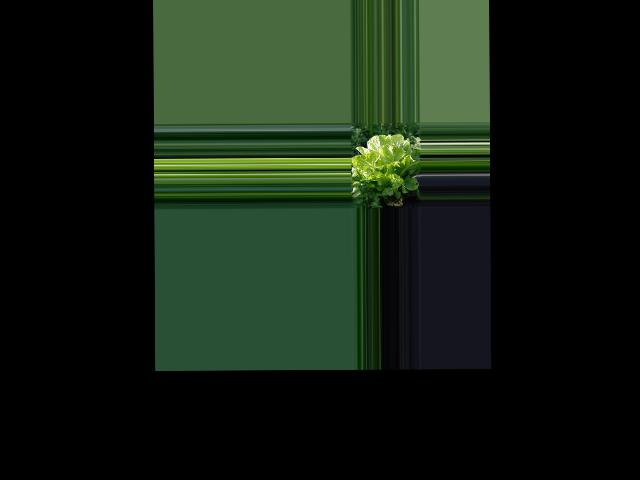lettuce: (358, 135, 418, 194)
